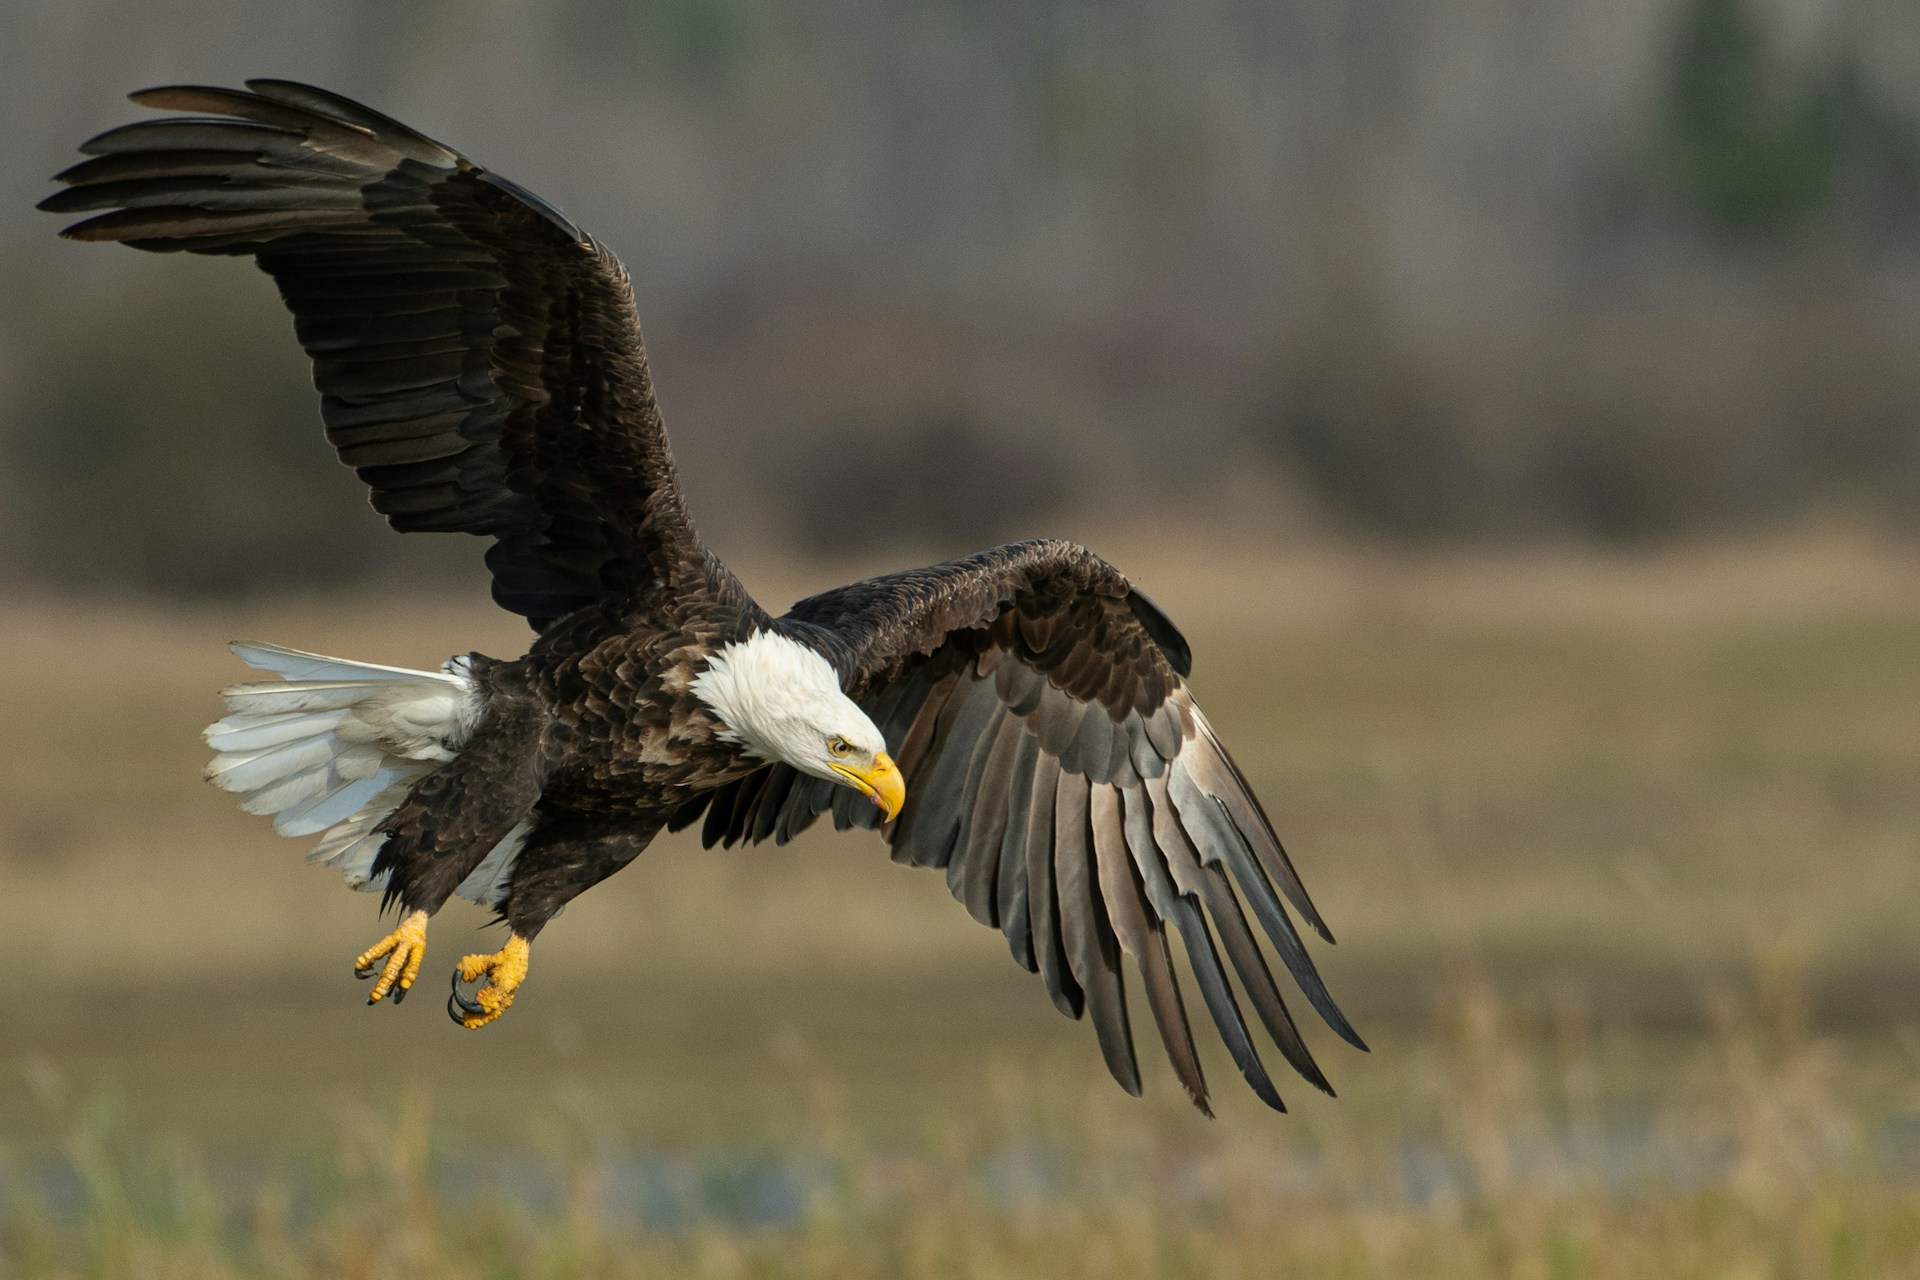eagle: (30, 60, 1367, 1124)
